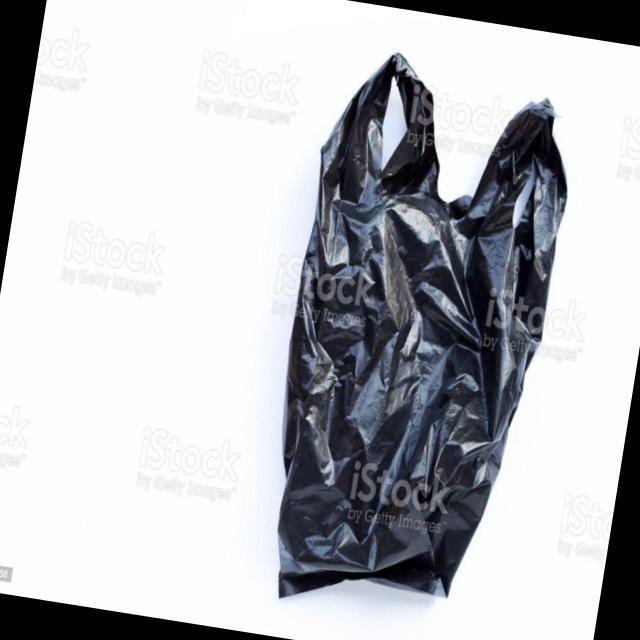KantongPlastik: (274, 51, 568, 600)
